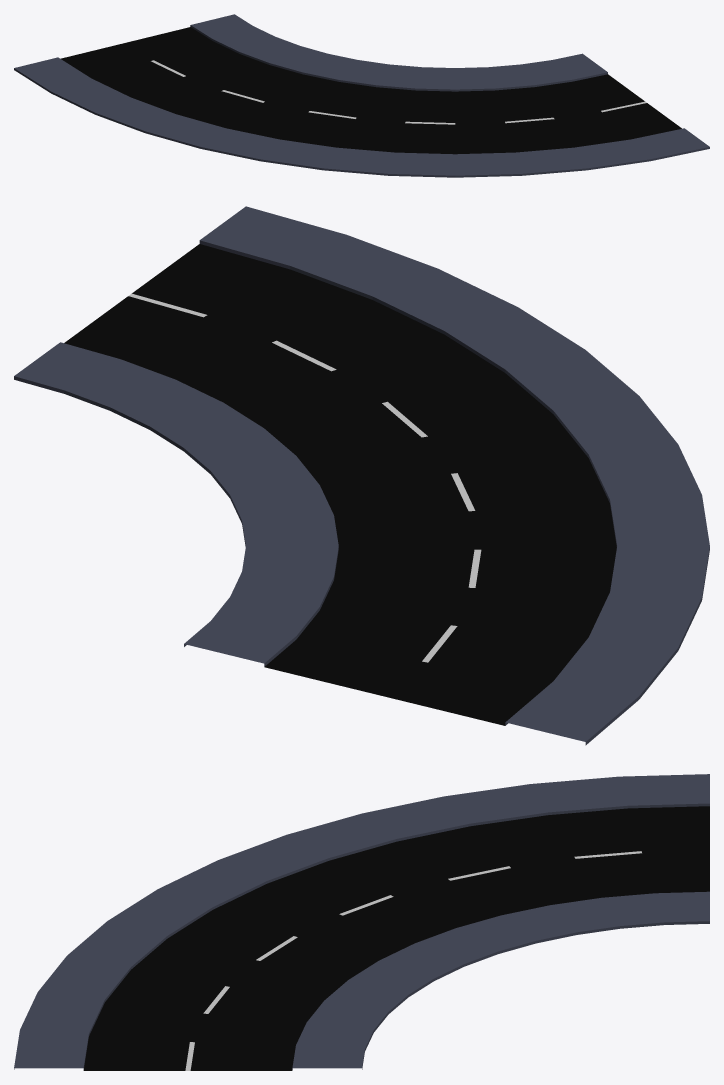
File: CalleDerecha.obj
3 renders of one model, top to bottom at view 1: azimuth 30°, elevation 25°; view 2: azimuth 150°, elevation 25°; view 3: azimuth 270°, elevation 25°, orthographic. The views are drawn at different scales.
Visible parts, largest first — view 1: Plane.003; view 2: Plane.003; view 3: Plane.003.
Boxes of the visible parts, box(x1,y1,x2,y2) form: Plane.003: box(14, 14, 709, 177); Plane.003: box(14, 206, 709, 745); Plane.003: box(14, 774, 709, 1070).
Size of the model in its own units: 40 by 0.17 by 40.
